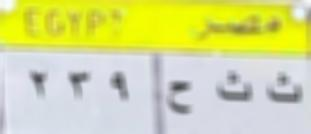2: (26, 65, 54, 103)
3: (63, 66, 95, 105)
7aa: (166, 76, 195, 118)
9: (106, 68, 133, 109)
thaa: (266, 69, 306, 112), (212, 72, 254, 108)
